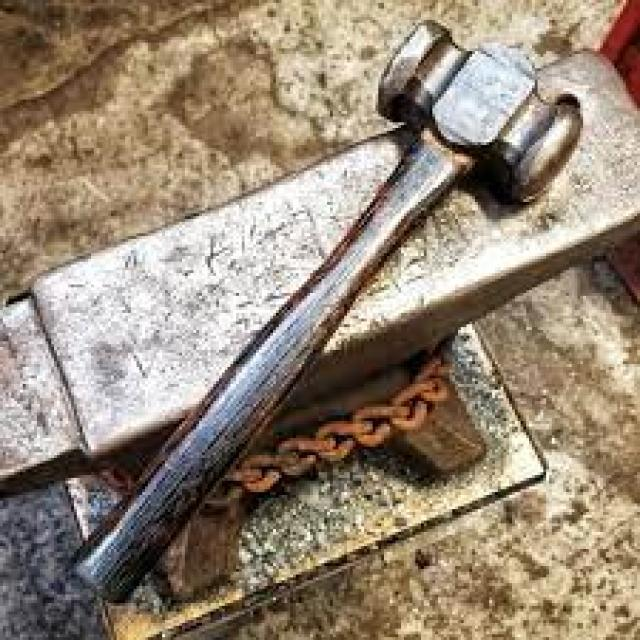hammer: (60, 12, 586, 610)
